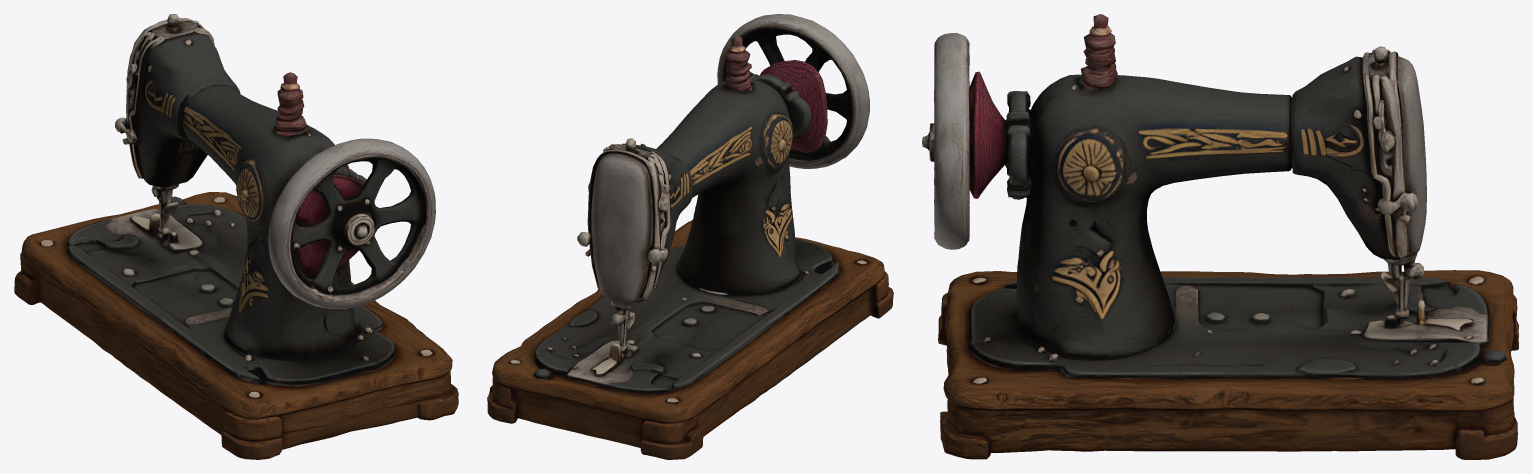
3 views of the same model, side by side, from view 1: azimuth 30°, elevation 25°; view 2: azimuth 150°, elevation 25°; view 3: azimuth 270°, elevation 25° (orthographic). The views are drawn at different scales.
Visible parts, largest first — view 1: tripo_node_cfc57ba3-061a-4ea9-98b1-65e5be22dbd4; view 2: tripo_node_cfc57ba3-061a-4ea9-98b1-65e5be22dbd4; view 3: tripo_node_cfc57ba3-061a-4ea9-98b1-65e5be22dbd4.
Part boxes in pixels (x1,y1,x2,y2): tripo_node_cfc57ba3-061a-4ea9-98b1-65e5be22dbd4: (14, 14, 458, 459); tripo_node_cfc57ba3-061a-4ea9-98b1-65e5be22dbd4: (487, 14, 893, 459); tripo_node_cfc57ba3-061a-4ea9-98b1-65e5be22dbd4: (922, 14, 1518, 459).
Bounding box in the file's own units: 0.5238 × 0.7062 × 1.
Materials: 1 (1 with a texture image).
